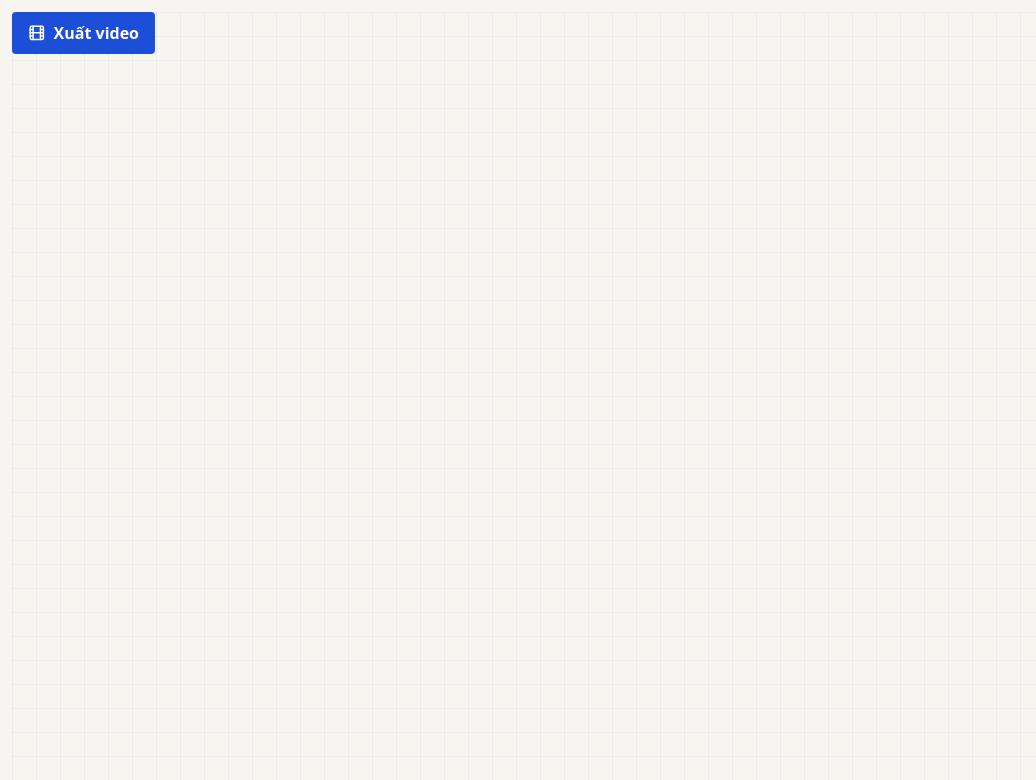
Test: ExportControls › mã hóa nhanh hỏng giữa chừng: tự chuyển sang ghi theo thời gian thực
Click the button "Xuất video" at (84, 33), box [12,12,155,54]
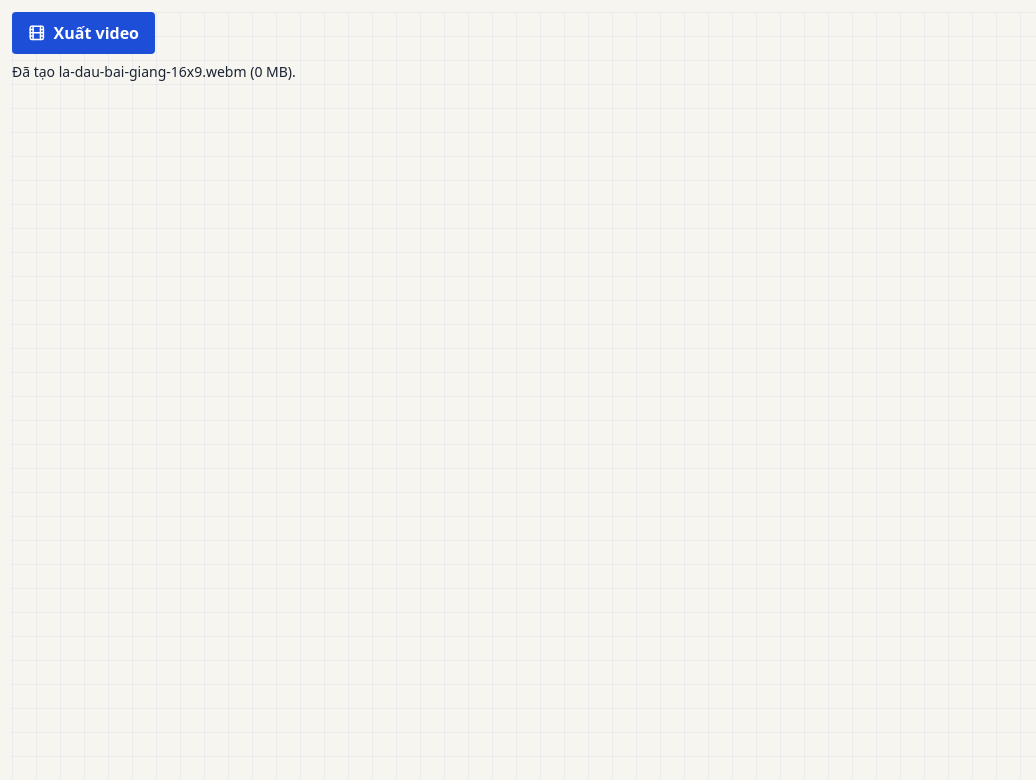
Expected: the text "Đã tạo la-dau-bai-giang-16x9.webm (0 MB)." is shown, [12,62,296,81]
